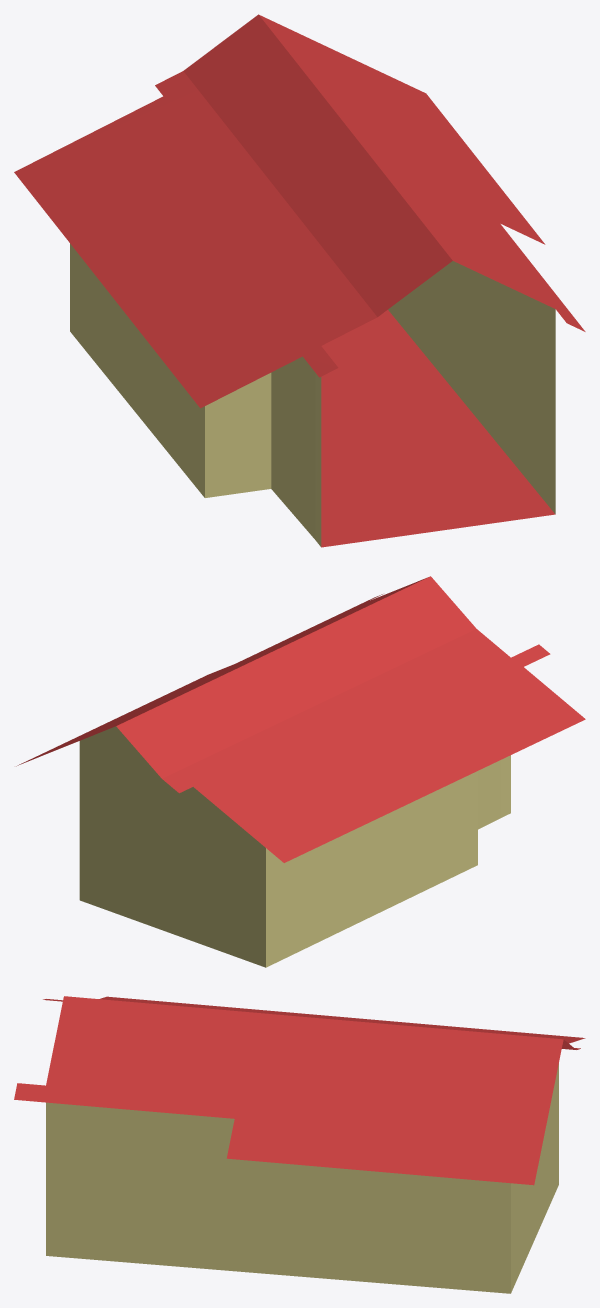
3 renders of one model, top to bottom at view 1: azimuth 30°, elevation 25°; view 2: azimuth 150°, elevation 25°; view 3: azimuth 270°, elevation 25°, orthographic. The views are drawn at different scales.
Size of the model in its own units: 20.72 by 25.58 by 10.98.
